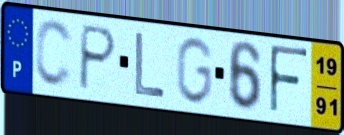6: (227, 39, 264, 115)
C: (33, 18, 75, 91)
F: (268, 42, 311, 118)
G: (174, 35, 215, 108)
L: (133, 30, 167, 100)
P: (76, 22, 119, 93)
